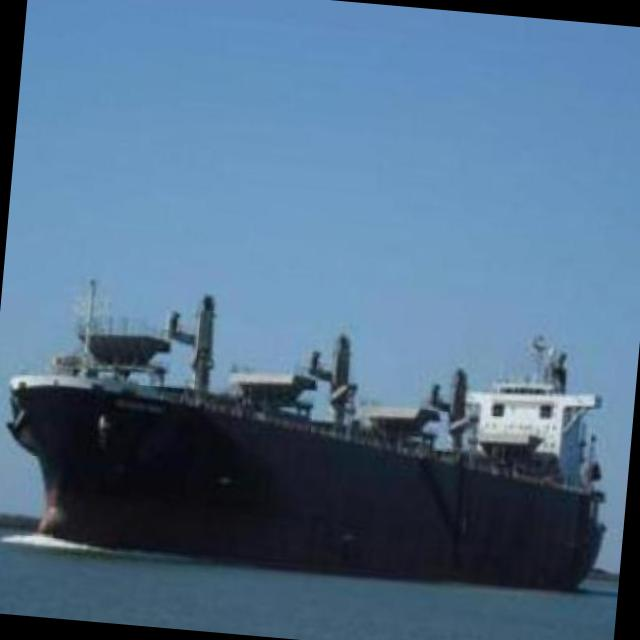boat: (0, 283, 625, 603)
